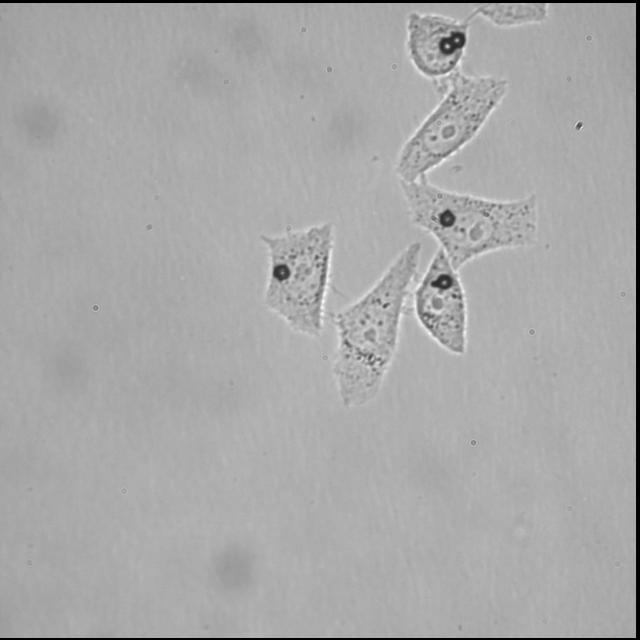microbeads: (446, 29, 470, 51), (434, 272, 452, 292), (438, 36, 456, 54), (274, 262, 290, 280), (438, 210, 452, 226)
